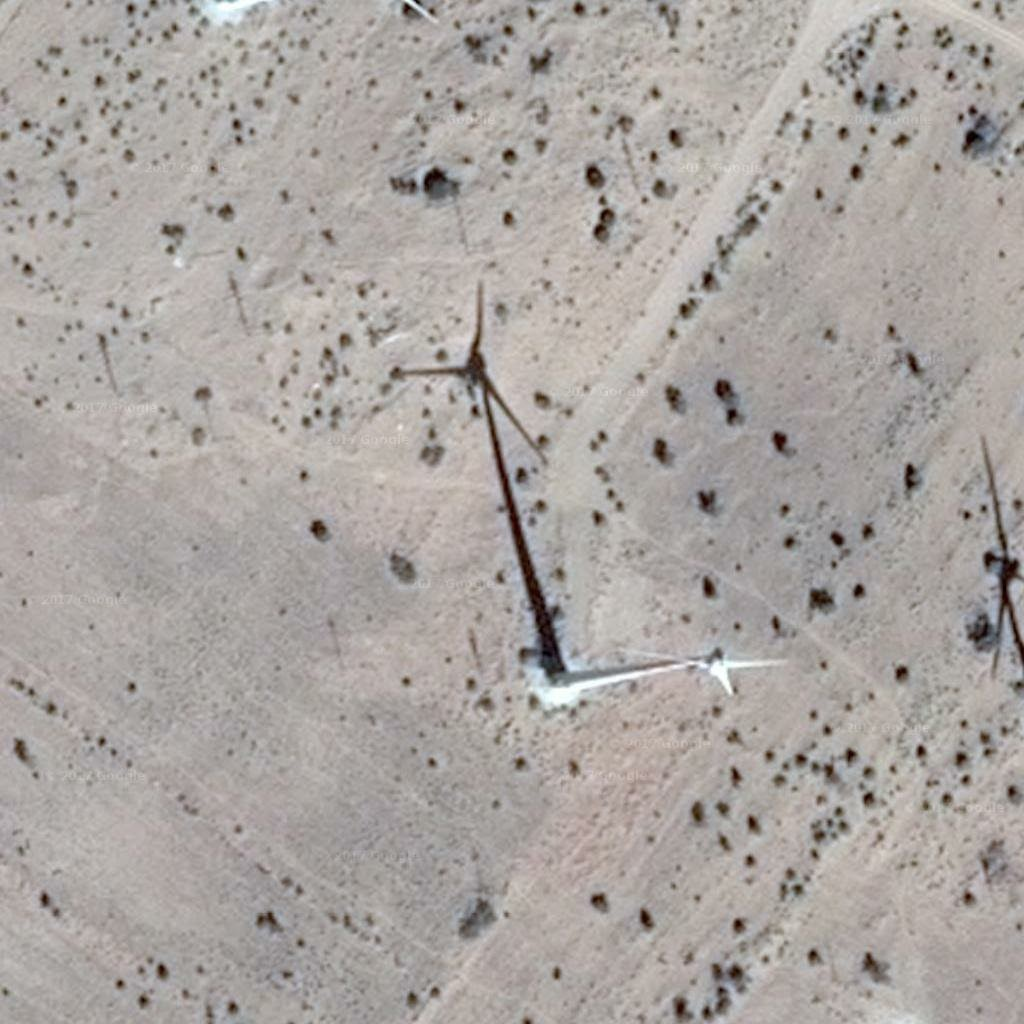Windmill: (388, 290, 589, 680)
